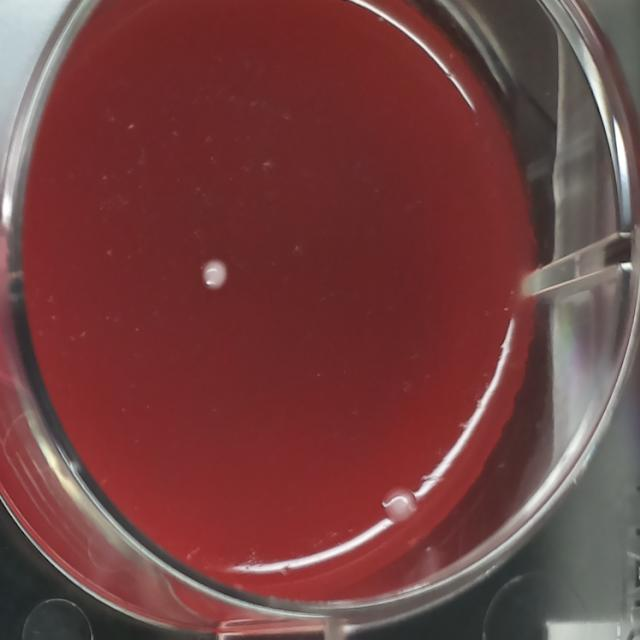Staphylococcus: (196, 255, 234, 301)
